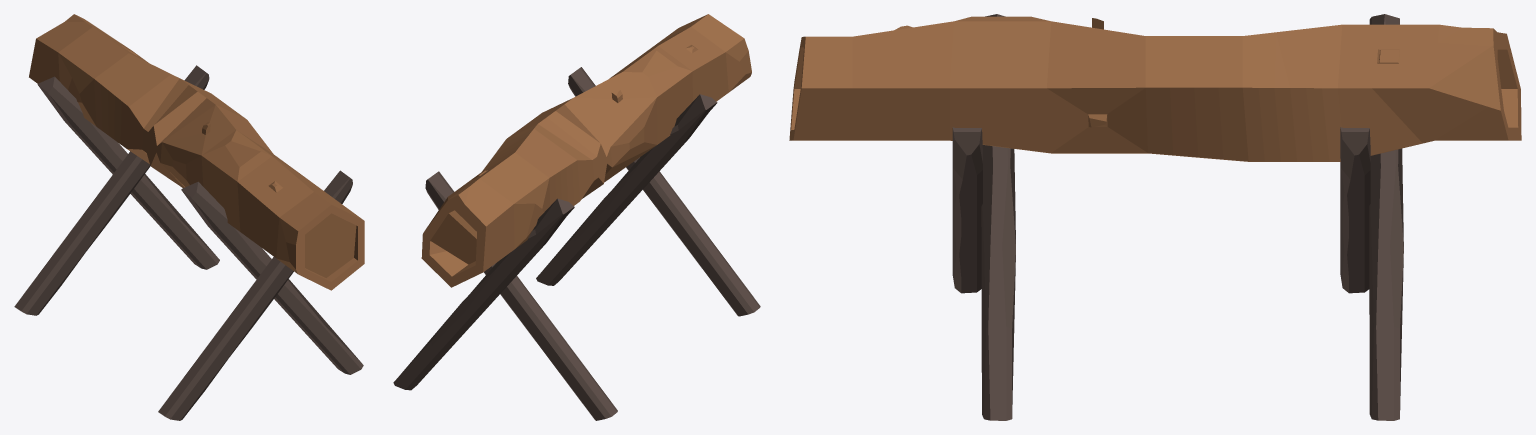
The model's file is deck_2.fbx.
3 views of the same model, side by side, from view 1: azimuth 30°, elevation 25°; view 2: azimuth 150°, elevation 25°; view 3: azimuth 270°, elevation 25° (orthographic). The views are drawn at different scales.
Visible parts, largest first — view 1: Cylinder.106, Cube.365, Cube.367, Cube.364, Cube.366; view 2: Cylinder.106, Cube.364, Cube.366, Cube.367, Cube.365; view 3: Cylinder.106, Cube.366, Cube.364, Cube.365, Cube.367.
Boxes of the visible parts, bbox=[...] form: Cylinder.106: bbox=[29, 14, 364, 290]; Cube.365: bbox=[158, 170, 352, 420]; Cube.367: bbox=[14, 65, 209, 315]; Cube.364: bbox=[181, 181, 363, 374]; Cube.366: bbox=[37, 76, 219, 269]; Cylinder.106: bbox=[421, 14, 751, 287]; Cube.364: bbox=[536, 94, 717, 285]; Cube.366: bbox=[393, 198, 574, 390]; Cube.367: bbox=[425, 171, 617, 420]; Cube.365: bbox=[568, 67, 760, 316]; Cylinder.106: bbox=[789, 16, 1521, 161]; Cube.366: bbox=[1369, 14, 1403, 420]; Cube.364: bbox=[981, 14, 1015, 420]; Cube.365: bbox=[952, 127, 982, 293]; Cube.367: bbox=[1340, 127, 1370, 293].
Size of the model in its own units: 321 by 364 by 717.
